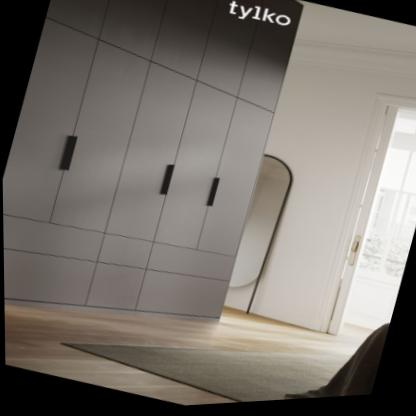Wooden floor: (4, 305, 356, 408)
